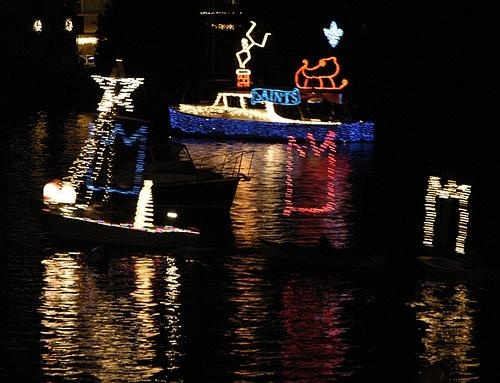boat: (42, 75, 254, 231), (171, 89, 376, 143)
